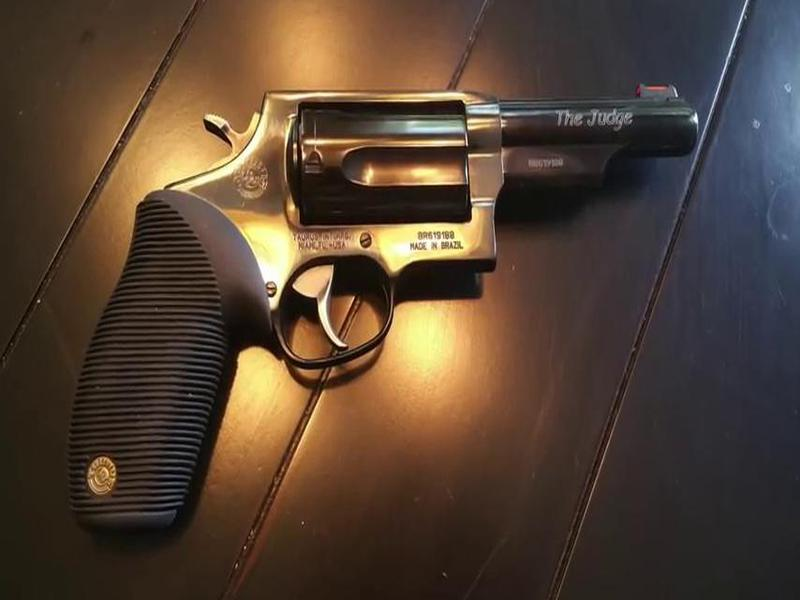Revolver: (78, 75, 720, 524)
